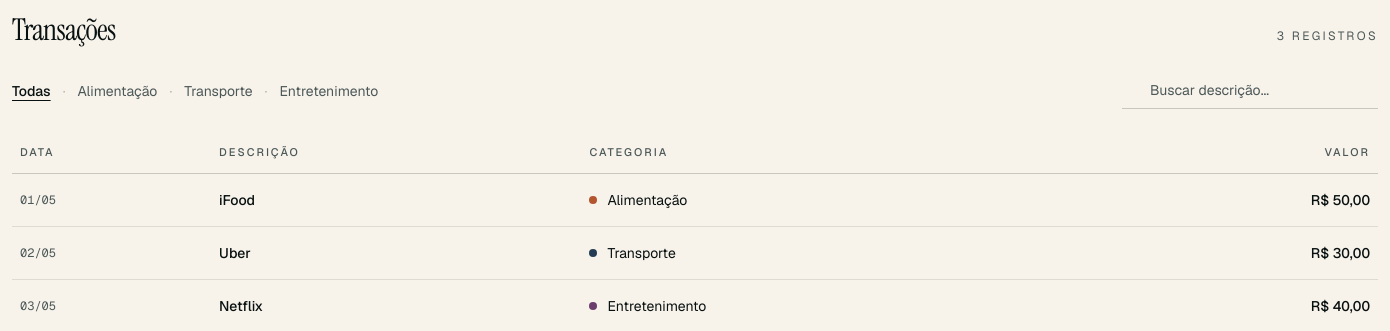
Test: filters transactions by search term
Type "iFood" into the field with placeholder "Buscar descrição...". click: x=1250, y=90
box: [1122, 72, 1378, 109]
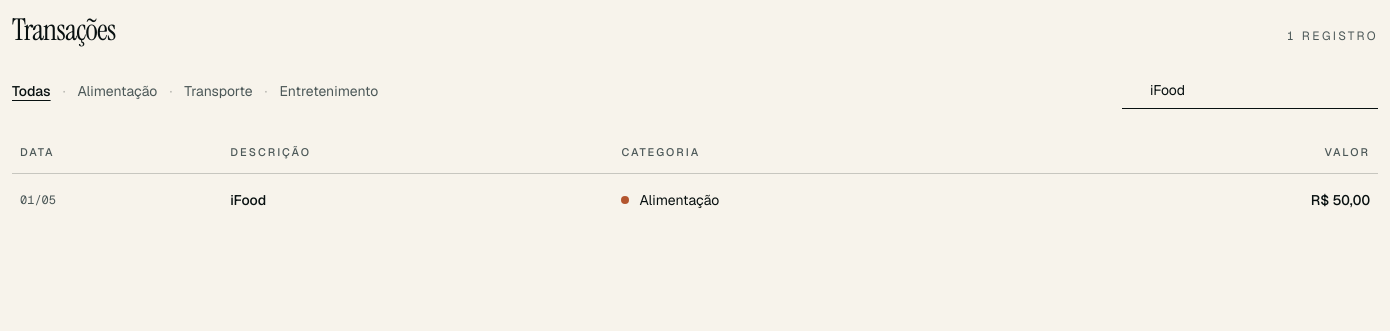
Expected: the text "iFood" is shown, [222, 173, 614, 226]
Expected: the text "Uber" is gone
Expected: the text "Netflix" is gone
